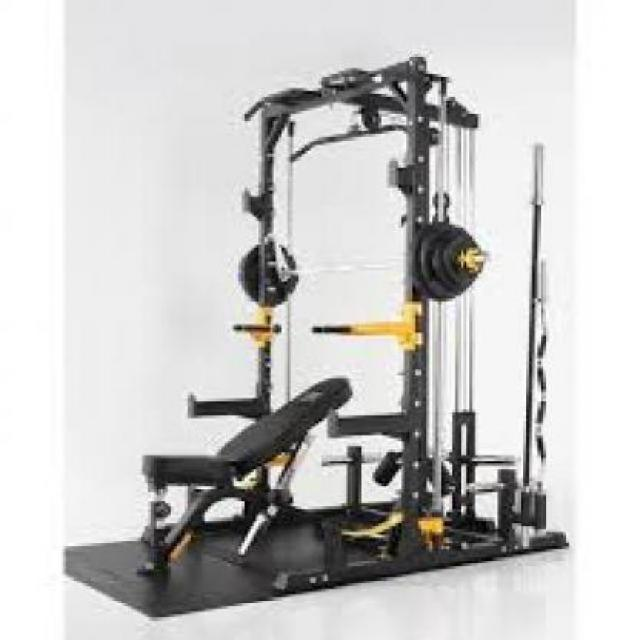smith machine: (190, 55, 572, 594)
